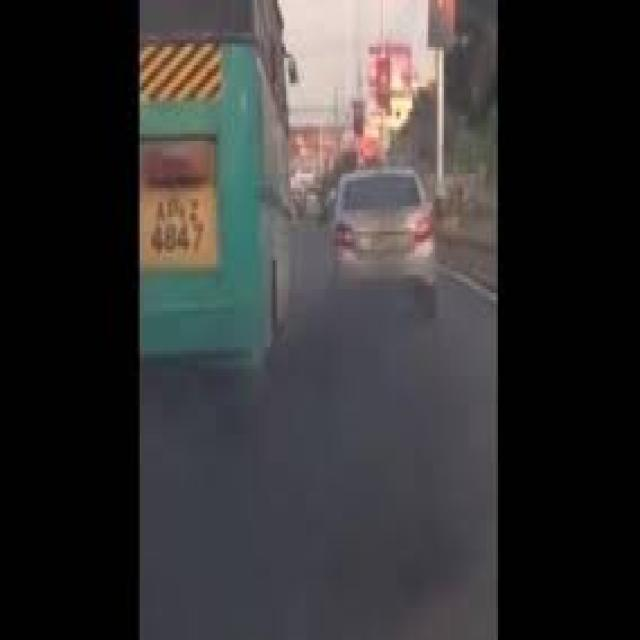smoke: (283, 236, 475, 640)
